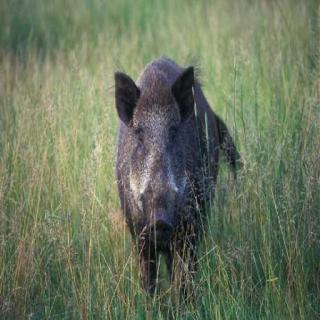Pig: (83, 55, 273, 288)
